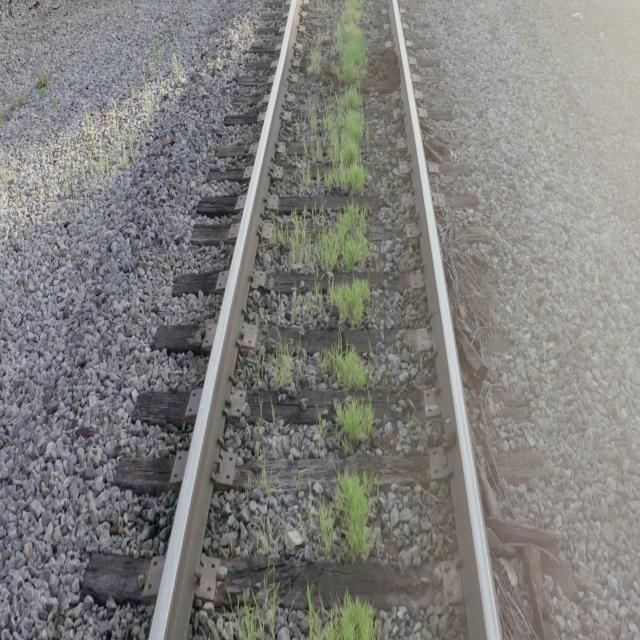Plant: (300, 0, 370, 196), (270, 202, 371, 327), (318, 340, 374, 447), (318, 469, 375, 560), (308, 587, 376, 640), (309, 593, 379, 640), (234, 587, 288, 640), (271, 344, 296, 396), (310, 33, 325, 76)
